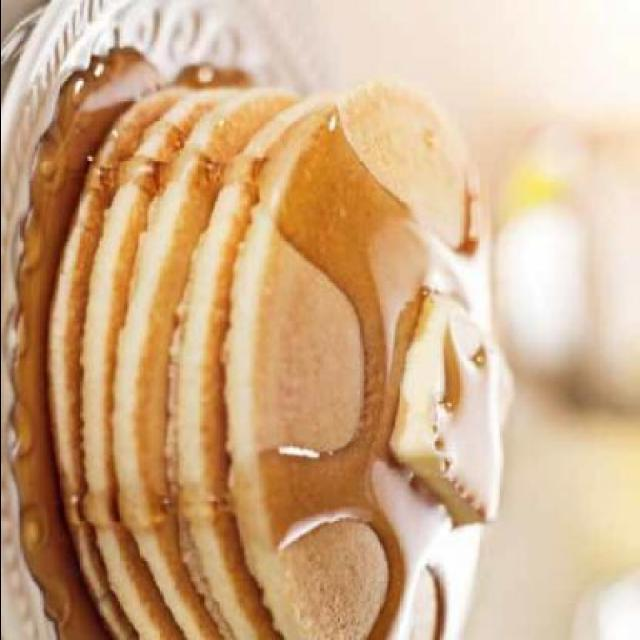Pancake: (219, 84, 495, 638)
